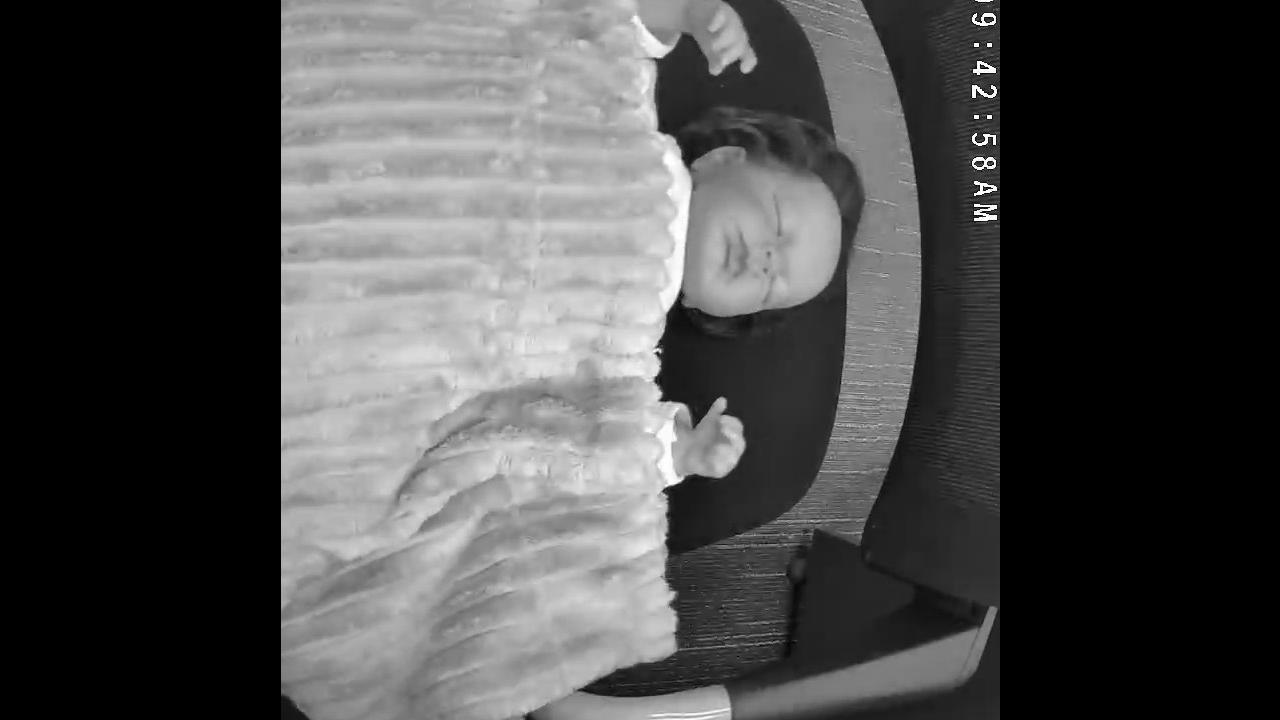hand: (675, 397, 745, 481), (684, 0, 758, 77)
